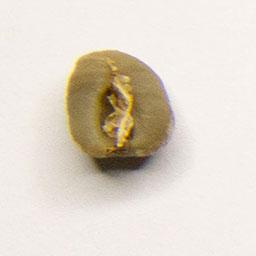peaberry: (62, 46, 178, 167)
